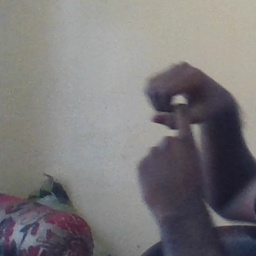Q: (128, 58, 222, 193)
